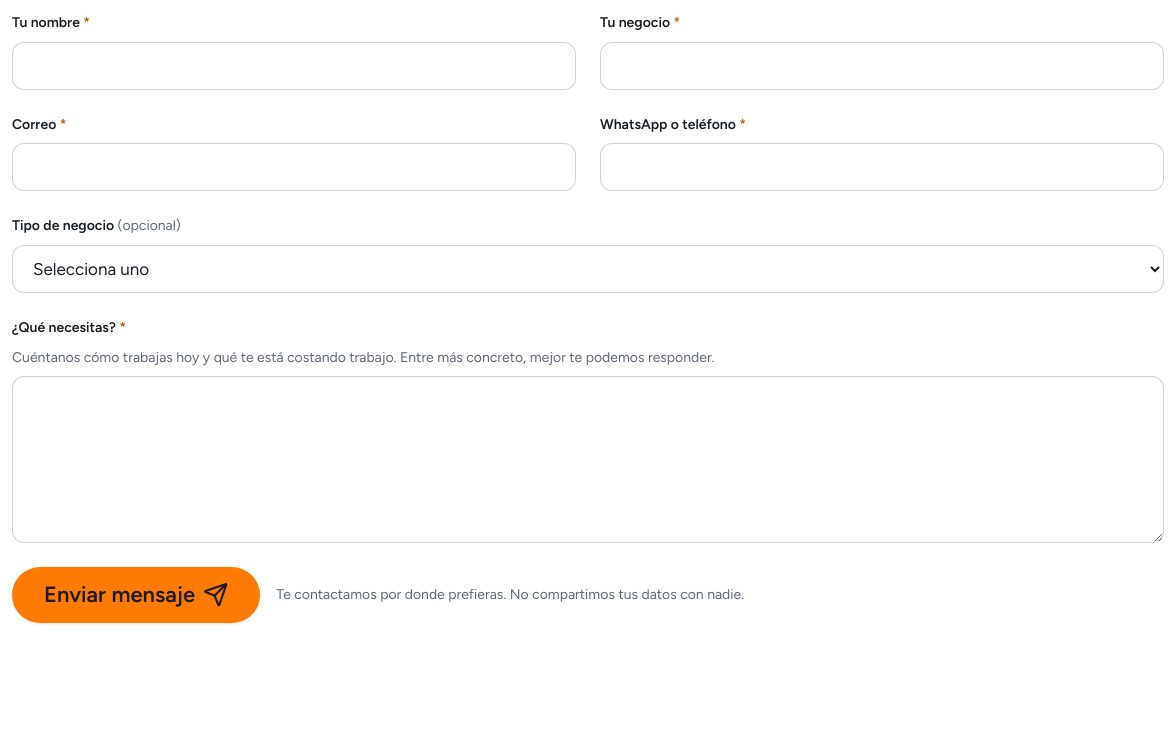
Test: ContactForm › shows Spanish errors and does not post an invalid form
Click the button "Enviar mensaje" at (136, 595), box [12,567,260,623]
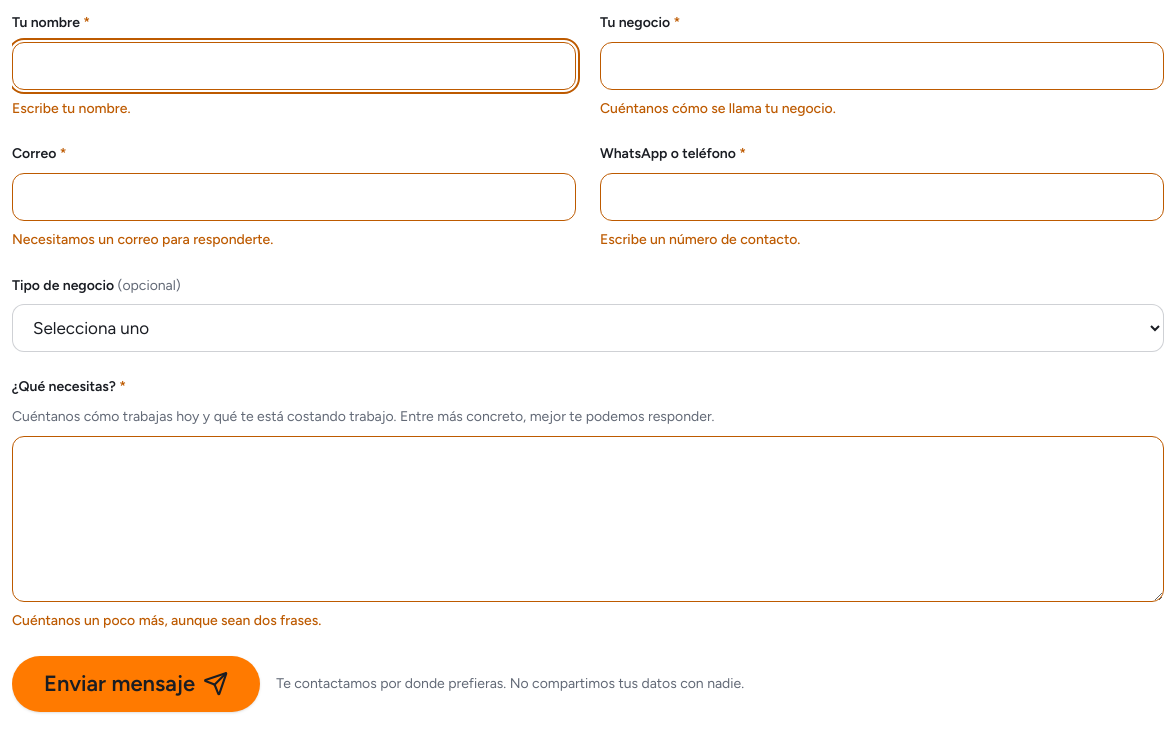
Check: the text "Escribe tu nombre." is shown, box [12,100,130,117]
